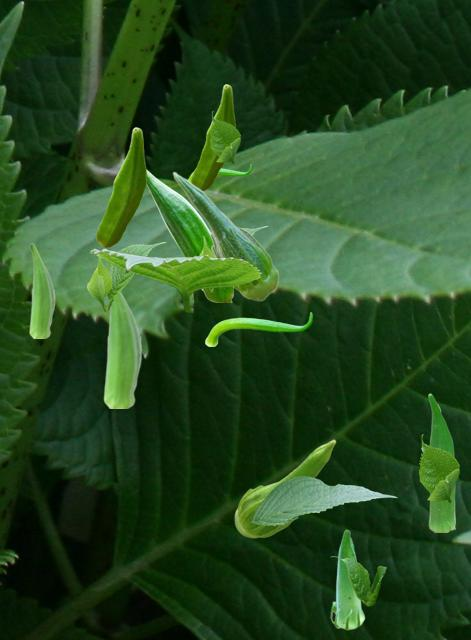okra: (172, 171, 278, 300), (146, 169, 232, 301), (234, 439, 335, 537), (96, 127, 145, 246), (191, 84, 234, 190), (103, 292, 141, 407), (428, 393, 454, 531), (205, 312, 311, 345), (330, 529, 364, 629), (29, 243, 54, 337), (188, 164, 250, 180)
